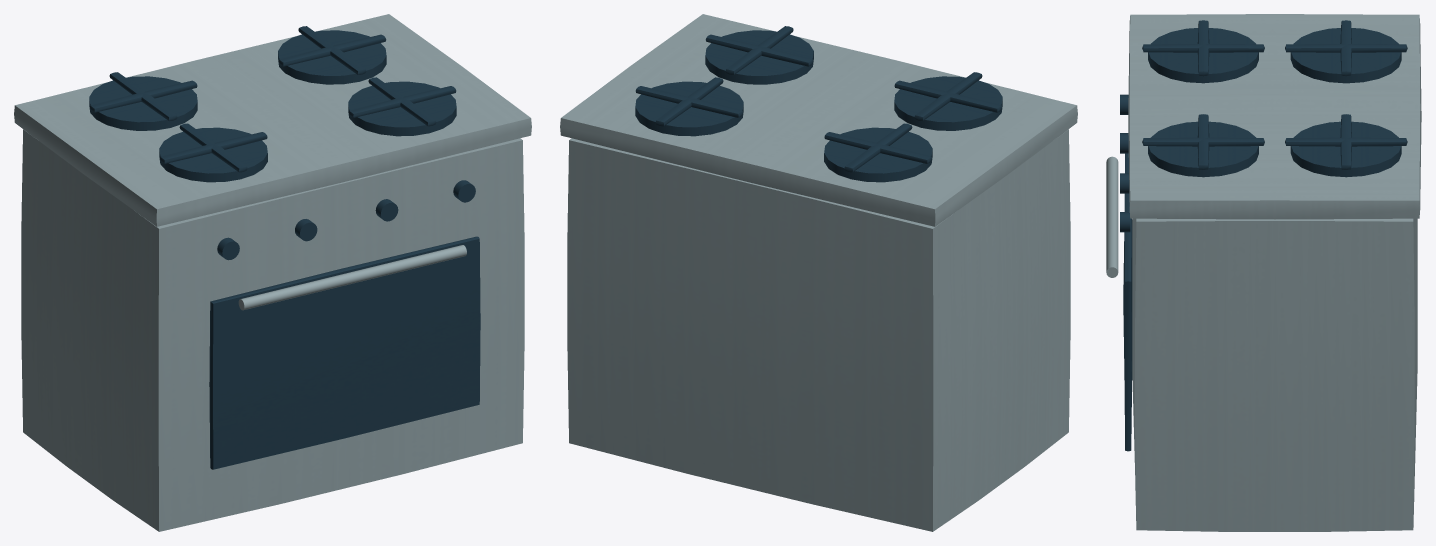
File: industrial-range.glb
The picture shows the model from 3 angles, left to right: view 1: azimuth 30°, elevation 25°; view 2: azimuth 150°, elevation 25°; view 3: azimuth 270°, elevation 25°; orthographic projection.
Visible parts, largest first — view 1: industrial-range; view 2: industrial-range; view 3: industrial-range.
Boxes of the visible parts, x1,y1,x2,y2 form: industrial-range: (14, 14, 531, 531); industrial-range: (560, 14, 1077, 531); industrial-range: (1106, 14, 1421, 531).
Bounding box in the file's own units: 1.12 × 0.979 × 0.795.
Materials: 20 (20 with a texture image).
